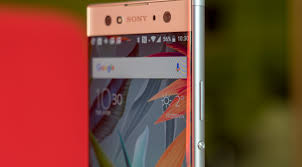sony: (80, 1, 208, 167)
